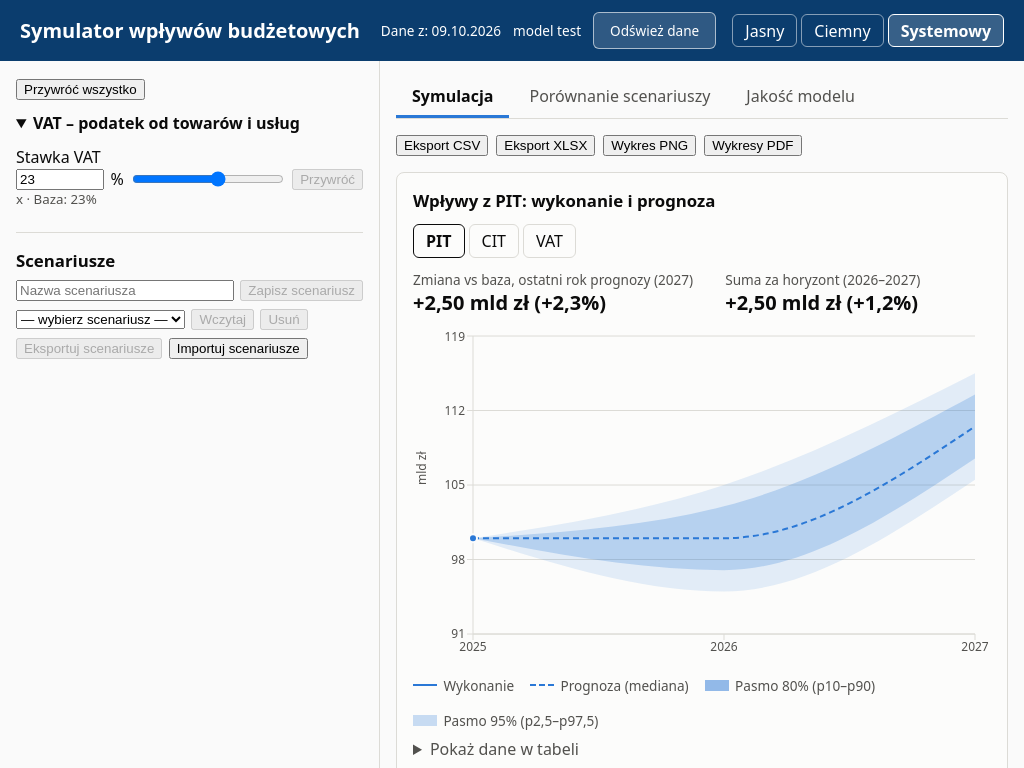
Test case: App integration › switches to the quality tab and loads the backtest only then
Expected: the button "Eksport CSV" is enabled, top-left (396, 135), bottom-right (488, 156)
Step 1. Click the tab "Jakość modelu" → (801, 98), box top-left (730, 77), bottom-right (871, 118)
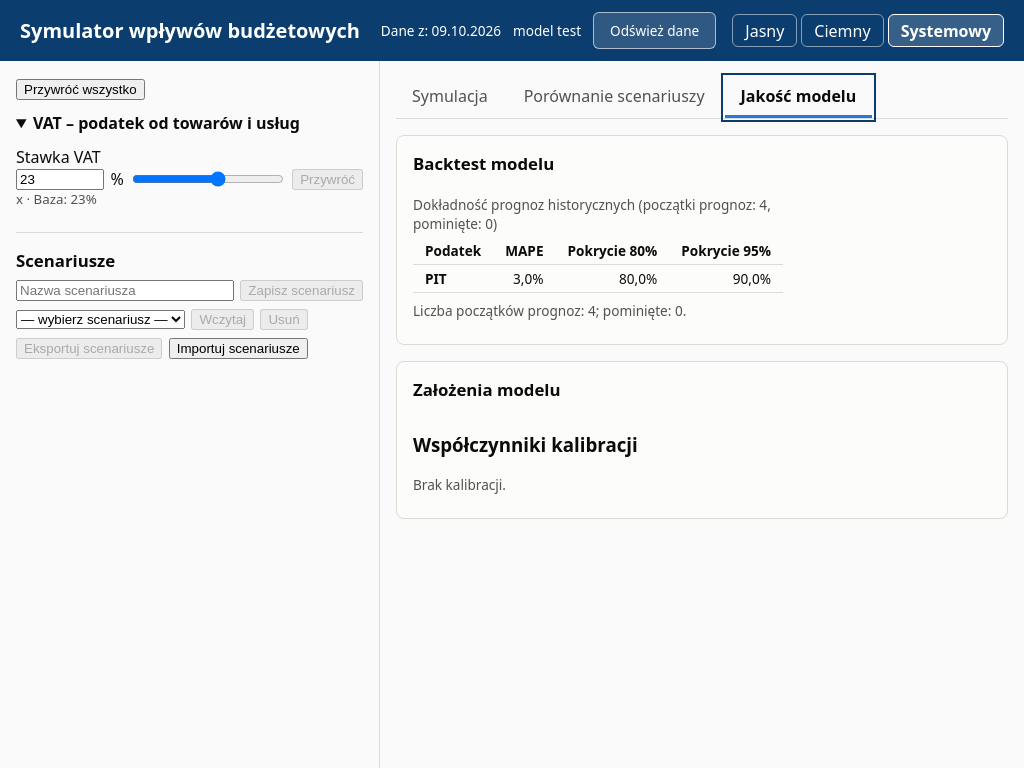
Now the heading "Backtest modelu" is shown, box top-left (413, 152), bottom-right (554, 175)
Now the text "3,0%" is shown, box top-left (493, 264), bottom-right (556, 292)
